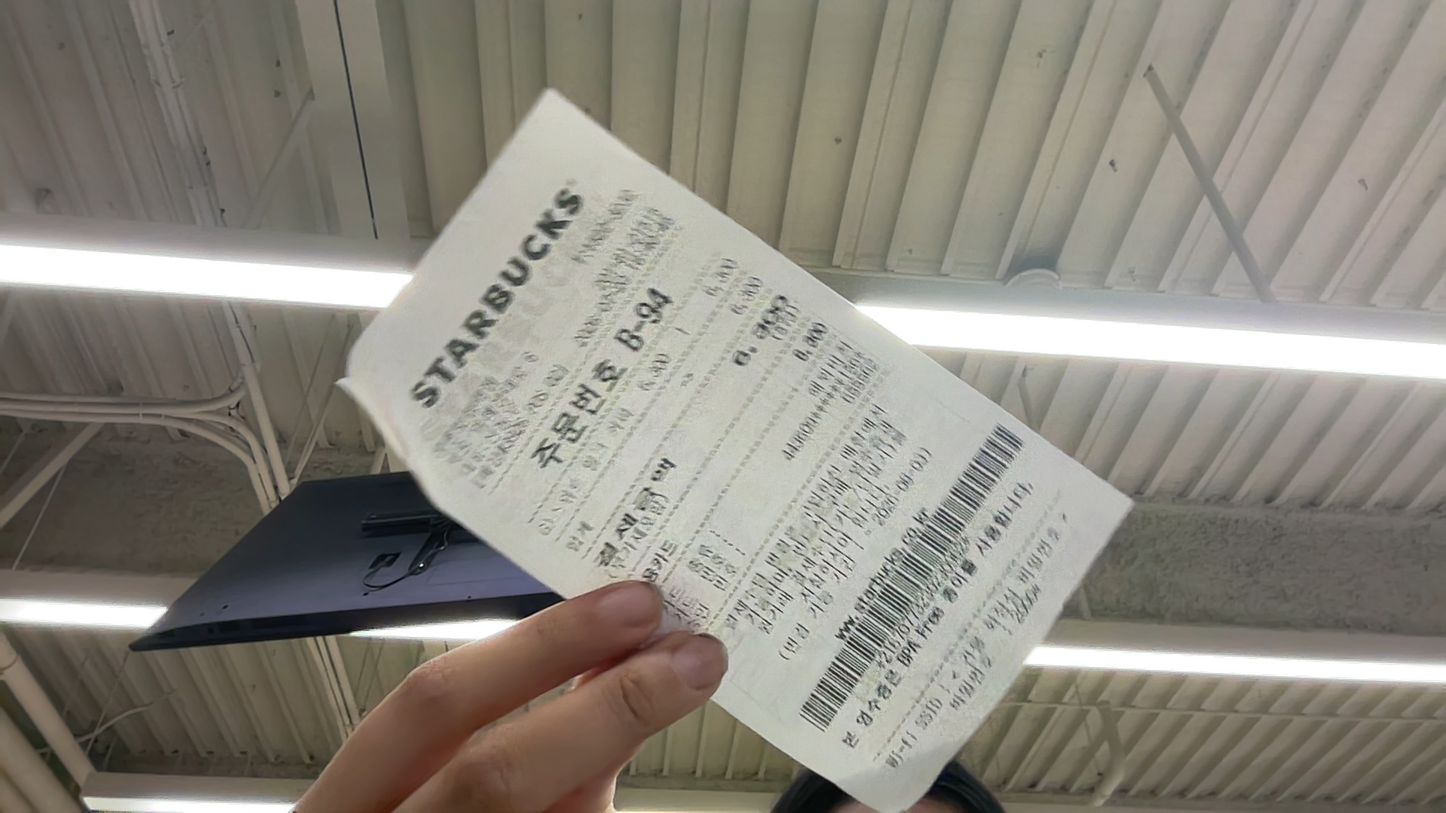Paper: (334, 76, 1228, 797)
